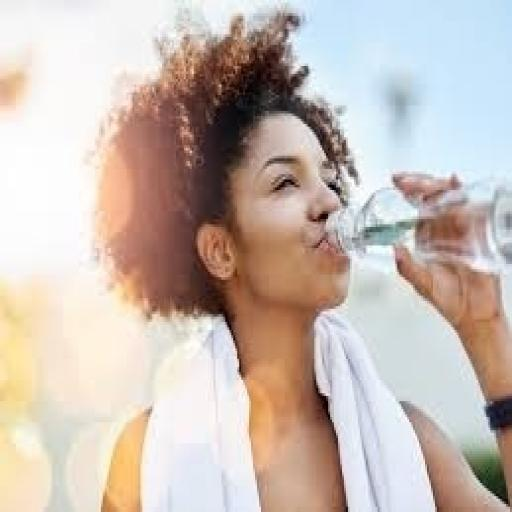drinking: (326, 169, 510, 274)
